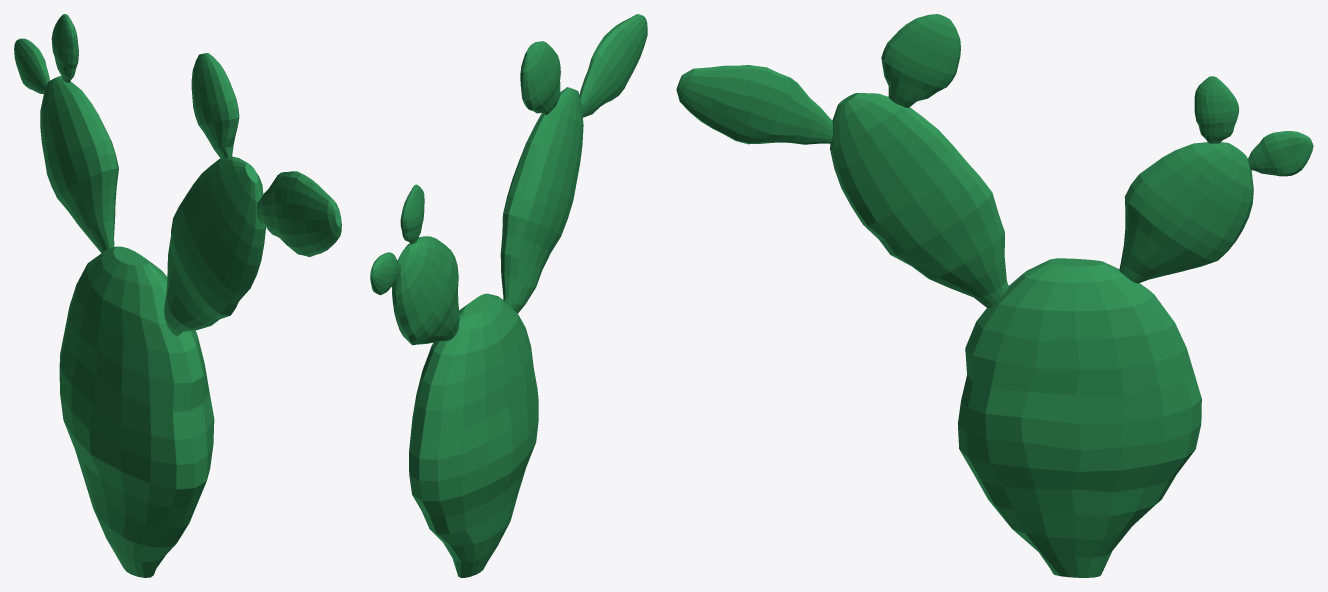
The model's file is CactusOpuntia.fbx.
3 renders of one model, left to right at view 1: azimuth 30°, elevation 25°; view 2: azimuth 150°, elevation 25°; view 3: azimuth 270°, elevation 25°, orthographic. The views are drawn at different scales.
Visible parts, largest first — view 1: Cylinder.003; view 2: Cylinder.003; view 3: Cylinder.003.
Part boxes in pixels (bbox=[...]): Cylinder.003: bbox=[14, 14, 341, 577]; Cylinder.003: bbox=[370, 14, 647, 577]; Cylinder.003: bbox=[676, 14, 1313, 577].
Size of the model in its own units: 12.75 by 75.96 by 78.43.
